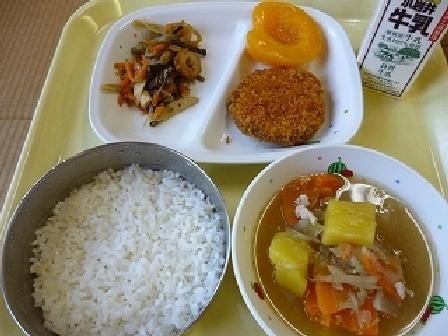Milk: (350, 0, 444, 101)
Rice: (11, 152, 234, 332)
Soups: (241, 157, 447, 334)
cutlet: (222, 64, 332, 149)
peach: (234, 3, 339, 68)
salad with sauce: (105, 19, 217, 126)
